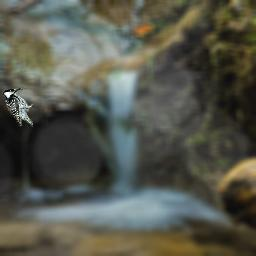Woodpecker: (2, 87, 33, 127)
